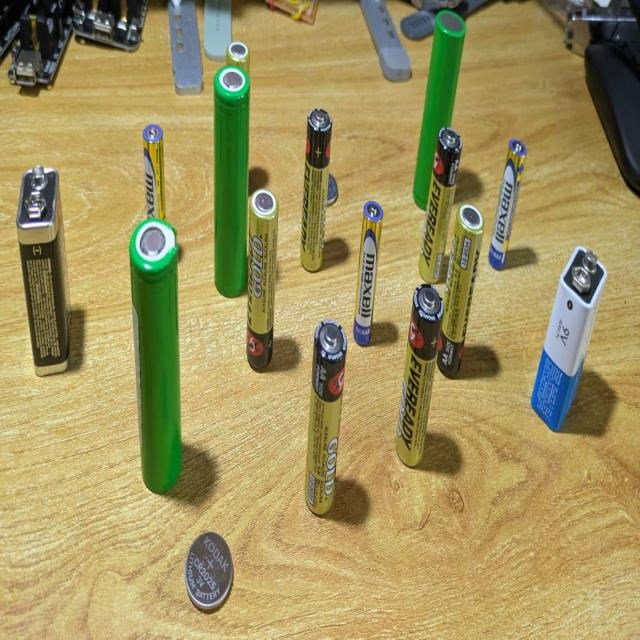9V: (525, 235, 610, 443), (13, 161, 87, 387)
AA: (393, 278, 449, 480), (301, 312, 353, 525), (411, 130, 469, 293), (438, 197, 487, 383), (246, 182, 282, 386), (294, 102, 334, 277), (225, 37, 252, 66)
AAA: (485, 131, 534, 276), (352, 192, 386, 352), (139, 118, 170, 226)
COIN: (182, 527, 238, 619), (327, 165, 342, 212)
